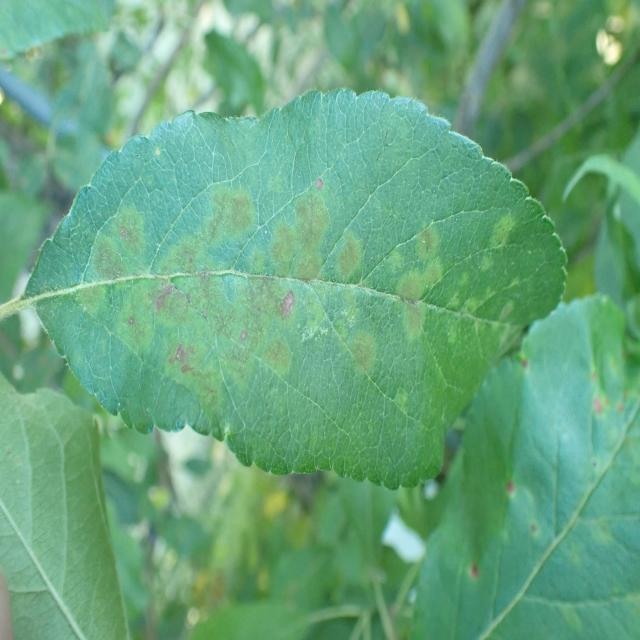scab: (51, 170, 534, 447)
